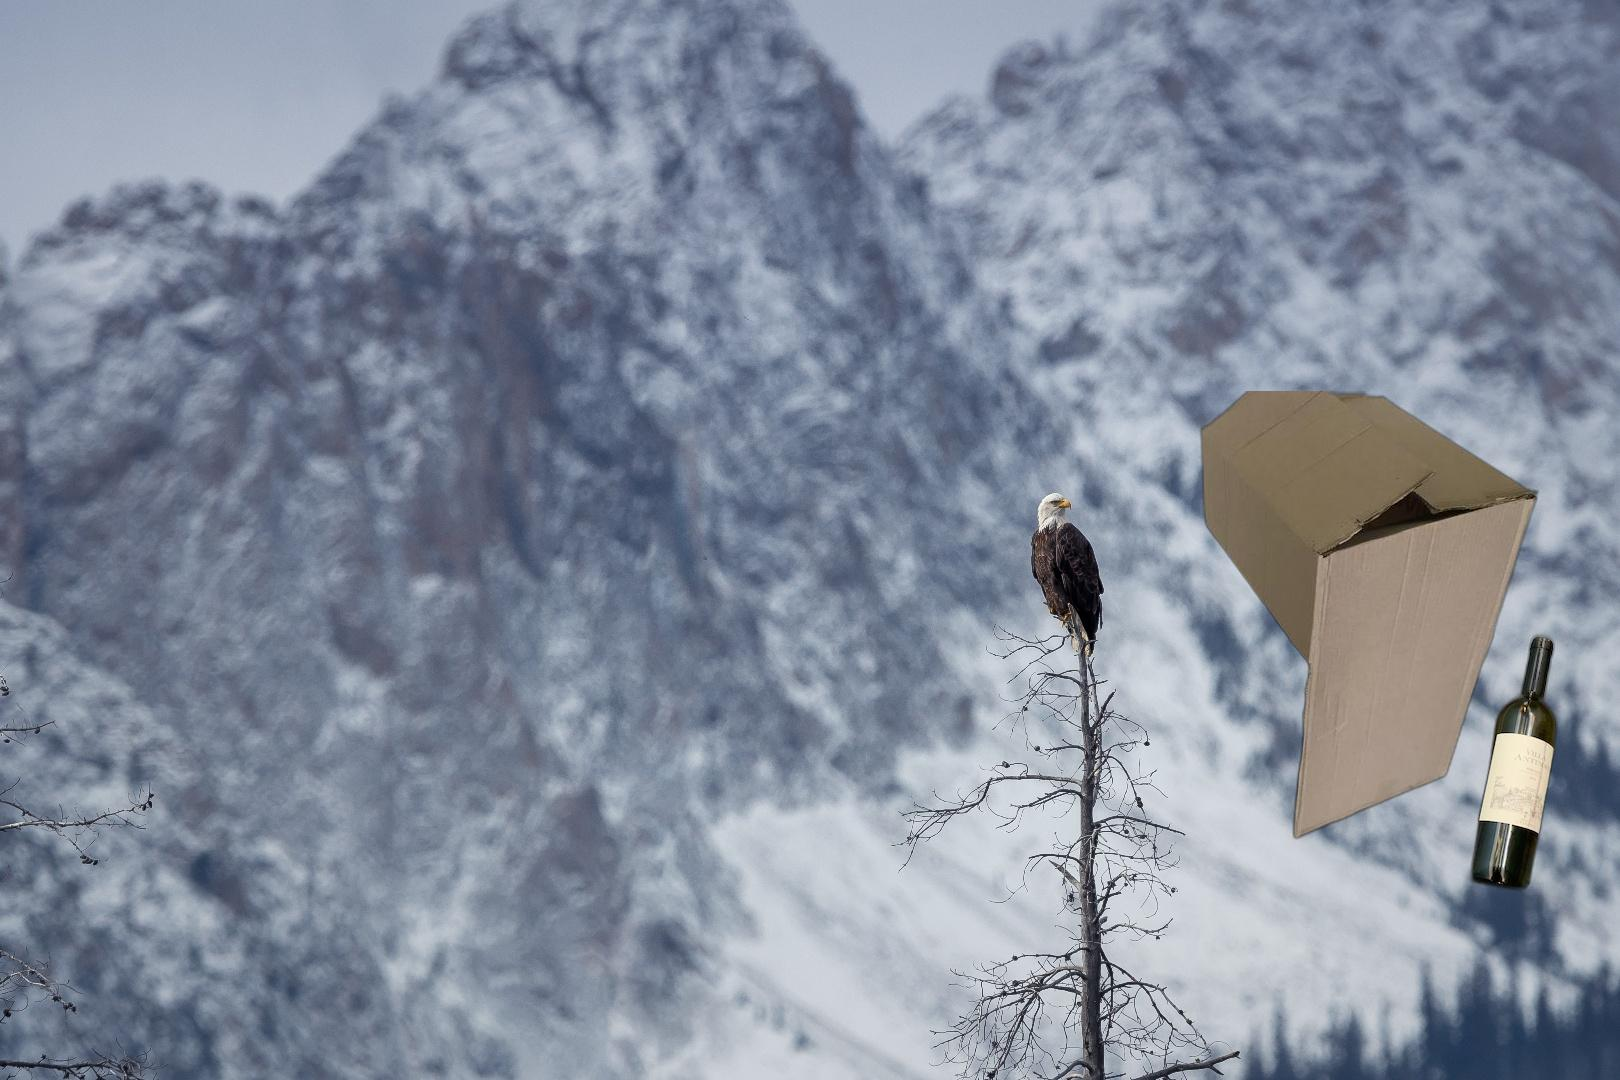glass: (1463, 627, 1561, 896)
trashbox-cardboard: (1195, 391, 1543, 843)
